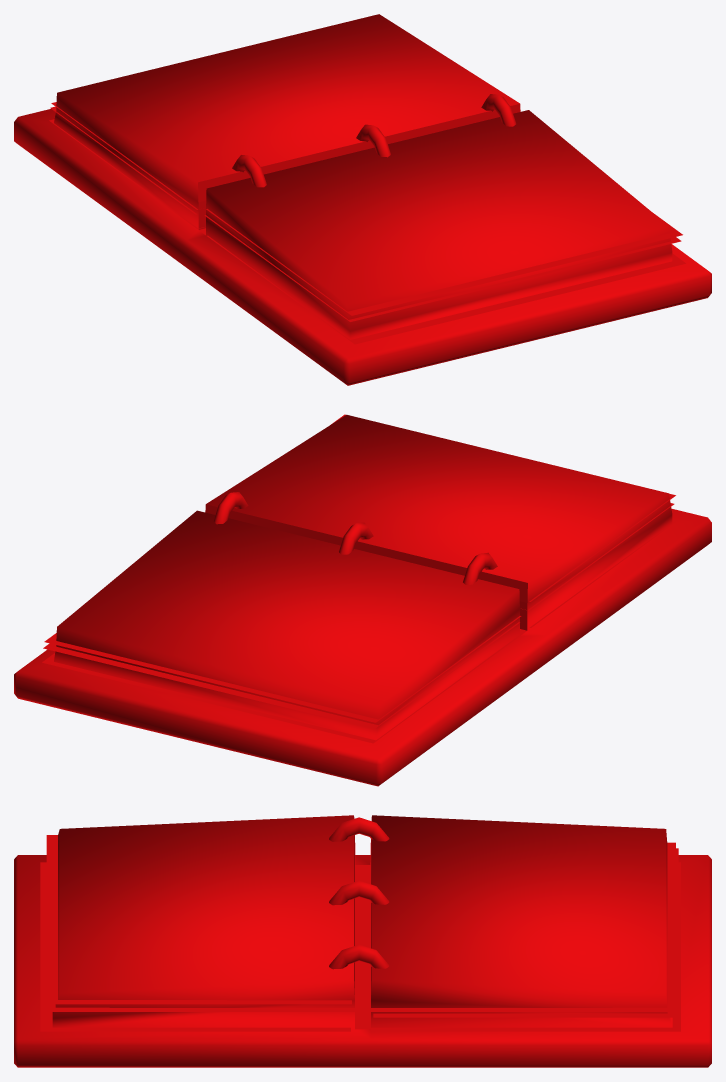
The model's file is S_CookBook.fbx.
3 renders of one model, top to bottom at view 1: azimuth 30°, elevation 25°; view 2: azimuth 150°, elevation 25°; view 3: azimuth 270°, elevation 25°, orthographic. The views are drawn at different scales.
Parts seen in each view (by area): view 1: Plane.005_low; view 2: Plane.005_low; view 3: Plane.005_low.
Part boxes in pixels (<box>): Plane.005_low: <box>14,14,711,385</box>; Plane.005_low: <box>14,414,711,786</box>; Plane.005_low: <box>14,815,711,1067</box>.
Bounding box in the file's own units: 0.3118 × 0.077 × 0.4893.
